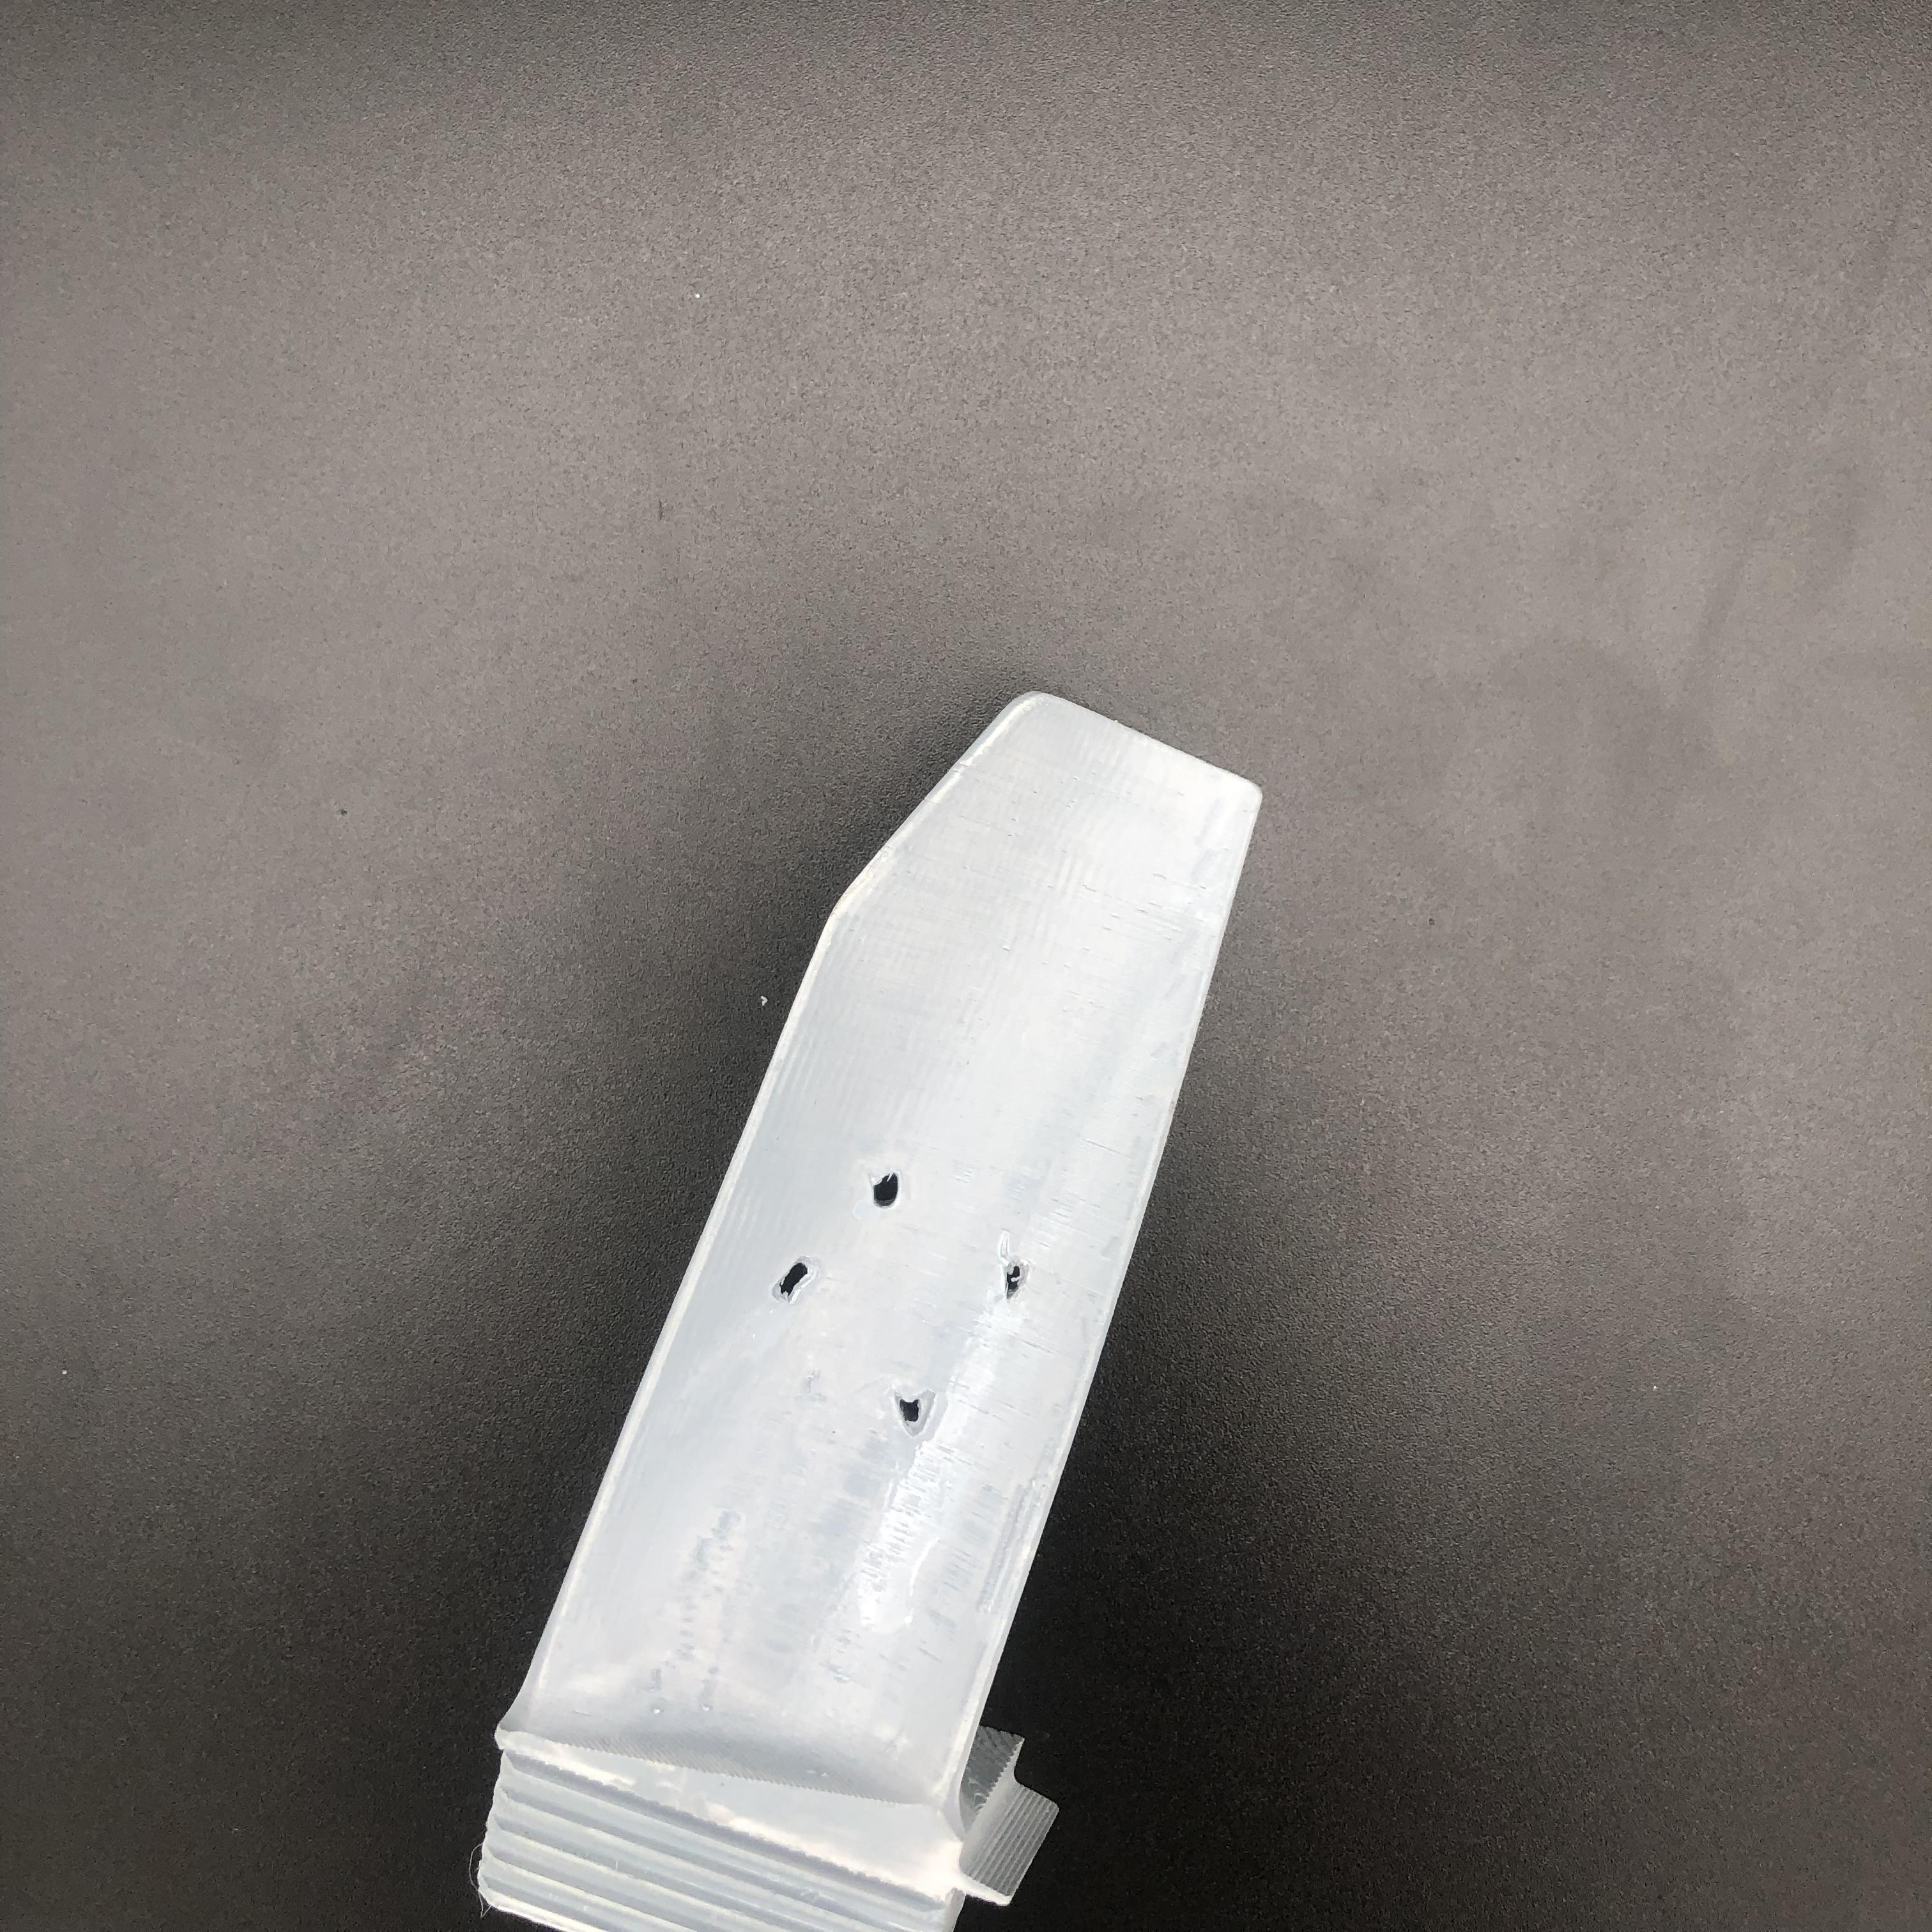breakdown: (777, 1169, 1028, 1440)
